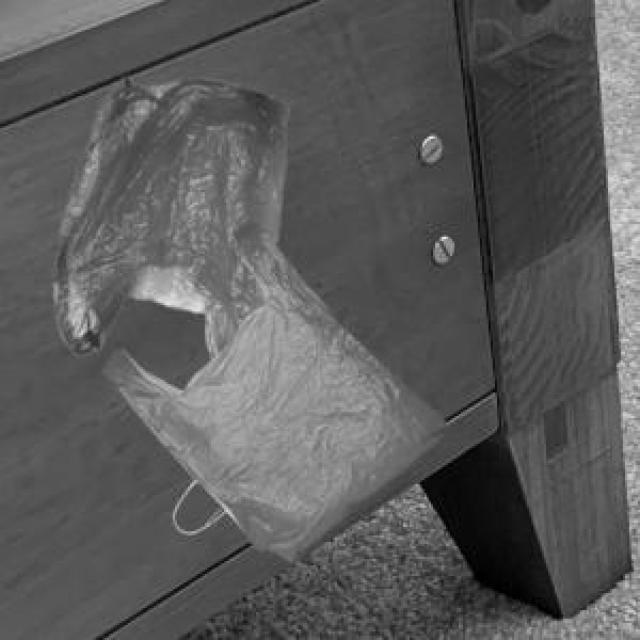paper: (211, 493, 229, 514)
